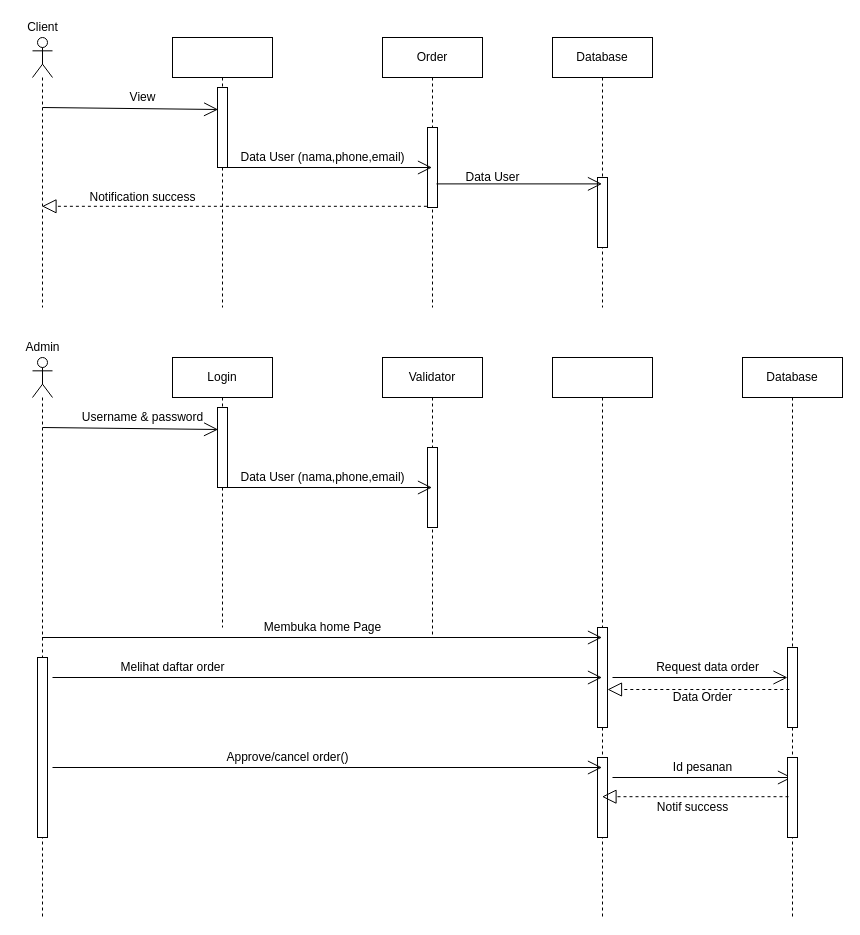
Image size: 860x935. Some labels were removed from this diagram. Here are the shapes that lost their labels. From the top down, the centre of each, then its label:
At [222,172]: "Website".
At [602,637]: "Main Page".
